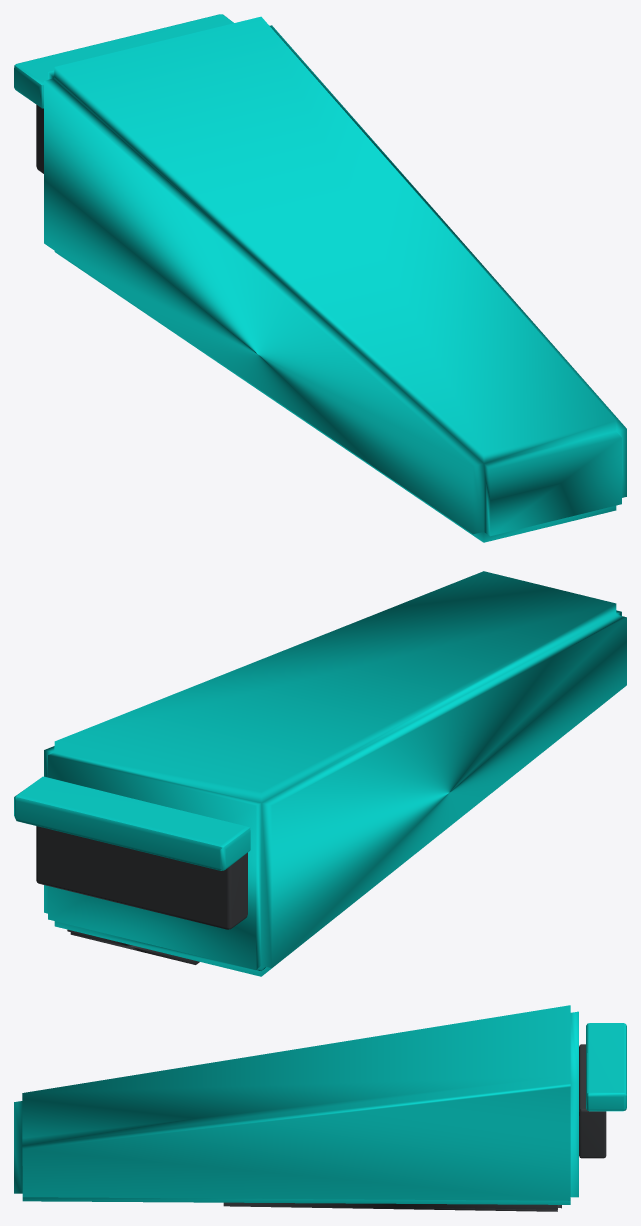
Rendered from f1_sidepod_r_downwash.glb.
3 views of the same model, one above another, from view 1: azimuth 30°, elevation 25°; view 2: azimuth 150°, elevation 25°; view 3: azimuth 270°, elevation 25° (orthographic). The views are drawn at different scales.
Parts seen in each view (by area): view 1: F1_Sidepod_R_Downwash; view 2: F1_Sidepod_R_Downwash; view 3: F1_Sidepod_R_Downwash.
Boxes of the visible parts, x1,y1,x2,y2 form: F1_Sidepod_R_Downwash: [14, 14, 626, 542]; F1_Sidepod_R_Downwash: [14, 571, 626, 976]; F1_Sidepod_R_Downwash: [14, 1005, 626, 1211].
Bounding box in the file's own units: 0.5374 × 0.4561 × 1.79.
